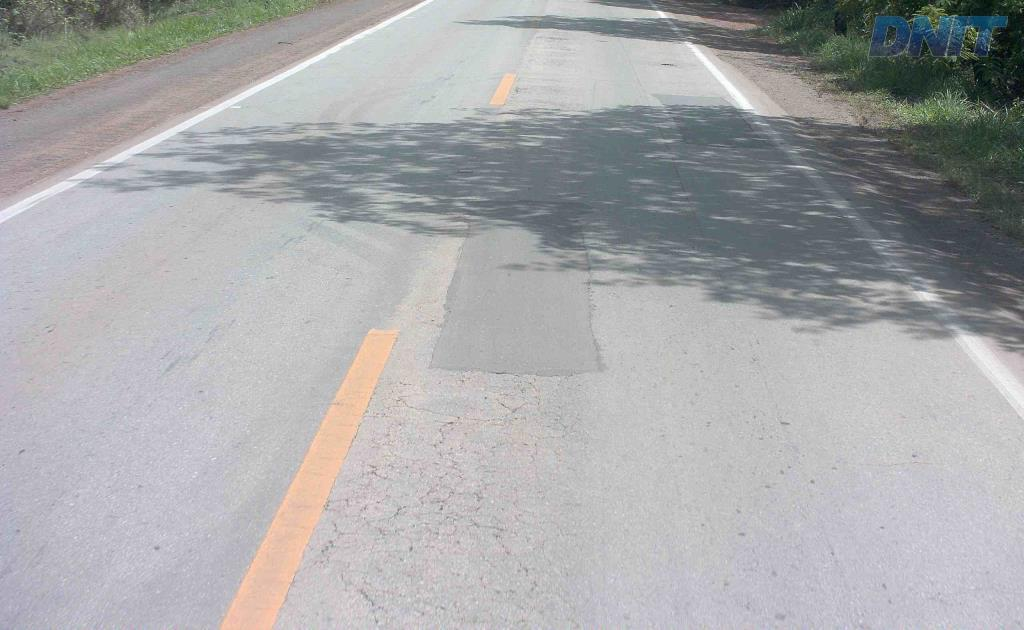crack: (435, 501, 529, 576), (483, 378, 592, 439), (418, 456, 467, 515), (524, 567, 569, 603)
